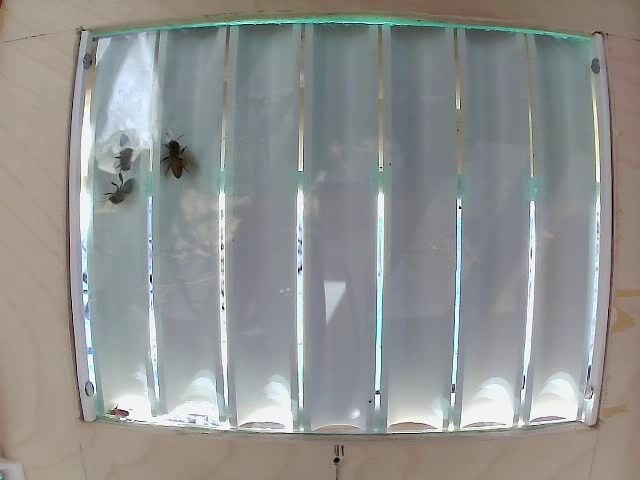bee: (105, 169, 146, 218), (108, 137, 144, 180), (163, 137, 193, 186)
